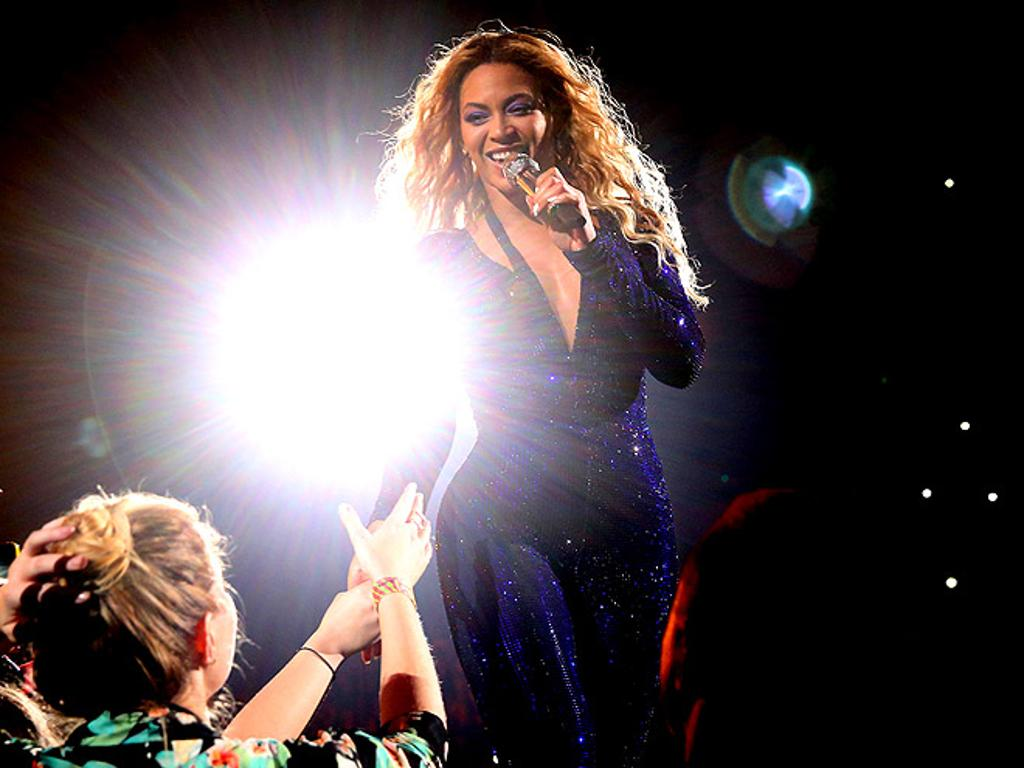face: (460, 62, 546, 190)
